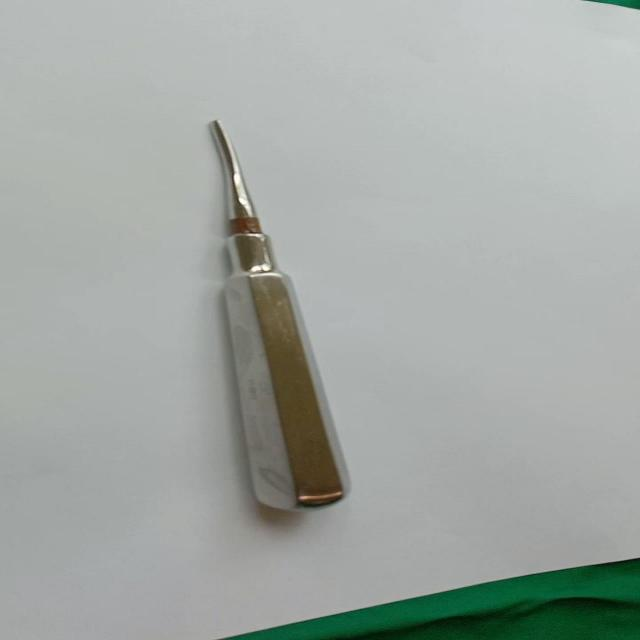Coupland1: (198, 111, 368, 516)
